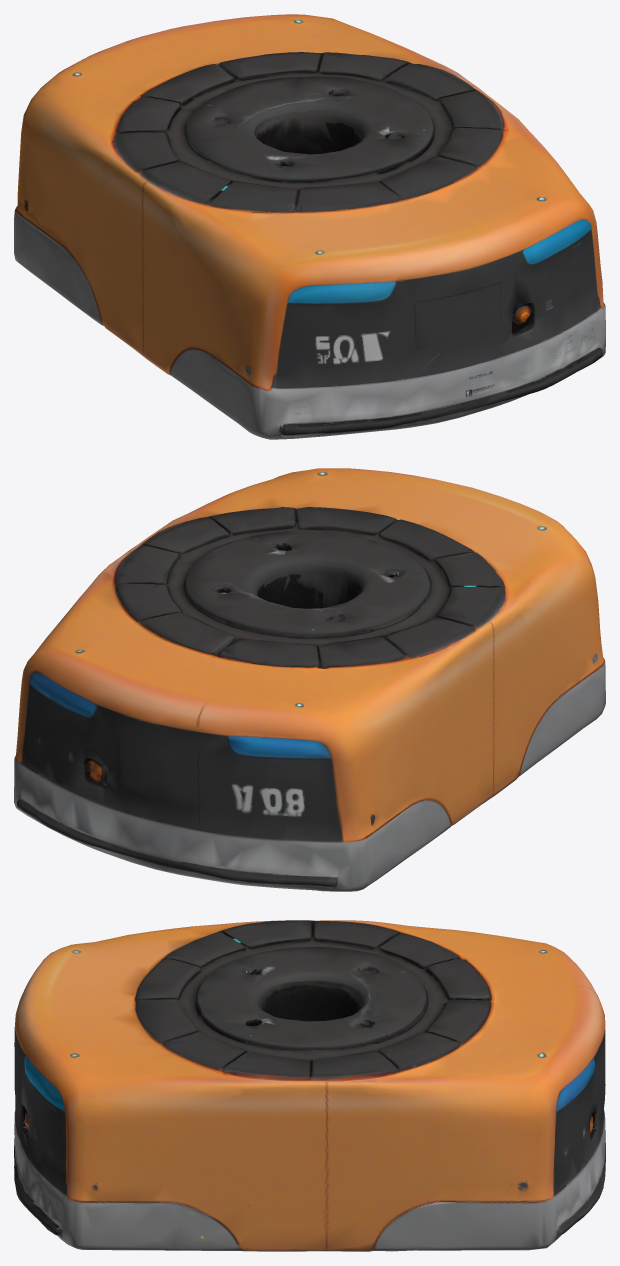
File: Orange_Warehouse_Robo_0812061258_texture.fbx
3 renders of one model, top to bottom at view 1: azimuth 30°, elevation 25°; view 2: azimuth 150°, elevation 25°; view 3: azimuth 270°, elevation 25°, orthographic. The views are drawn at different scales.
Parts seen in each view (by area): view 1: input; view 2: input; view 3: input.
Part boxes in pixels (left/top/right/bottom): input: left=14, top=14, right=605, bottom=439; input: left=14, top=468, right=605, bottom=891; input: left=14, top=920, right=605, bottom=1251.
Bounding box in the file's own units: 132 × 74.23 × 199.
Materials: 1 (1 with a texture image).
